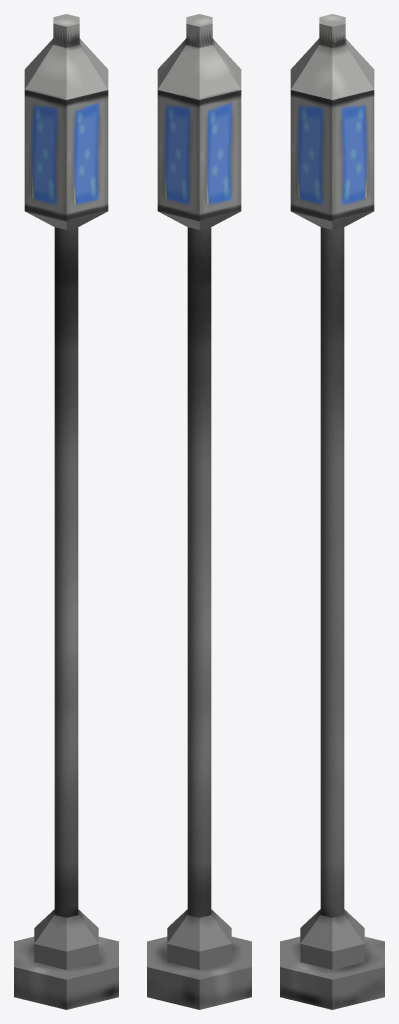
The model's file is lampPost.FBX.
The picture shows the model from 3 angles, left to right: view 1: azimuth 90°, elevation 25°; view 2: azimuth 150°, elevation 25°; view 3: azimuth 270°, elevation 25°; orthographic projection.
Visible parts, largest first — view 1: Cylinder001; view 2: Cylinder001; view 3: Cylinder001.
Part boxes in pixels (<box>): Cylinder001: <box>14,14,118,1009</box>; Cylinder001: <box>147,14,251,1009</box>; Cylinder001: <box>280,14,384,1009</box>.
Bounding box in the file's own units: 121 × 1066 × 105.
